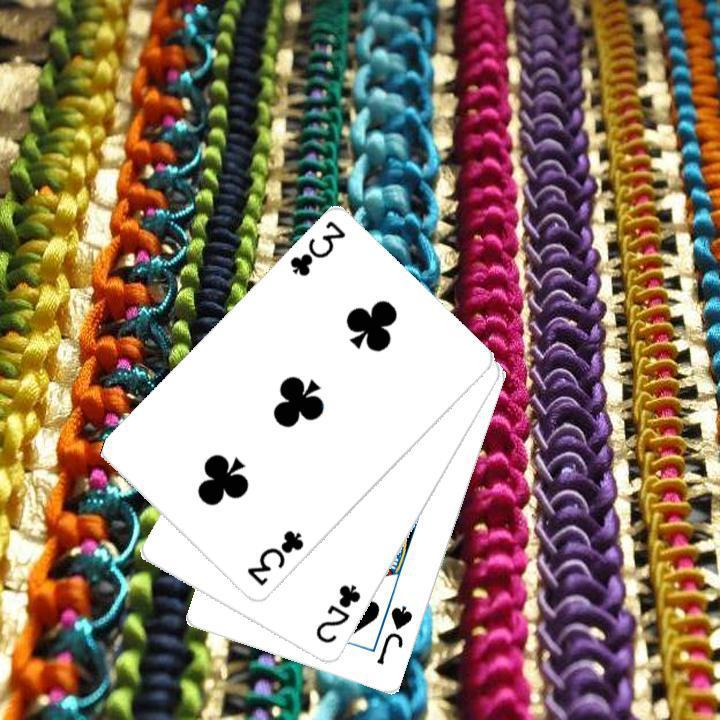2: (311, 580, 363, 646)
3: (242, 526, 306, 589), (285, 216, 348, 279)
J: (372, 601, 415, 667)
